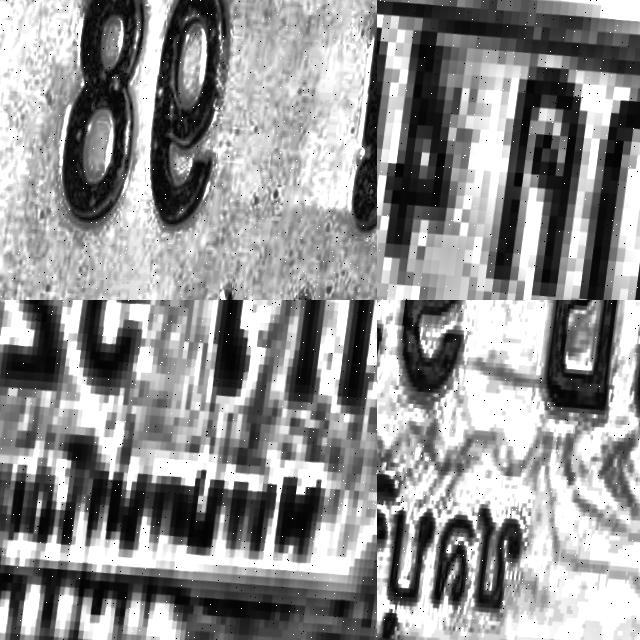license-plate: (0, 300, 377, 640), (0, 0, 377, 300), (377, 300, 640, 640), (377, 0, 640, 300)
